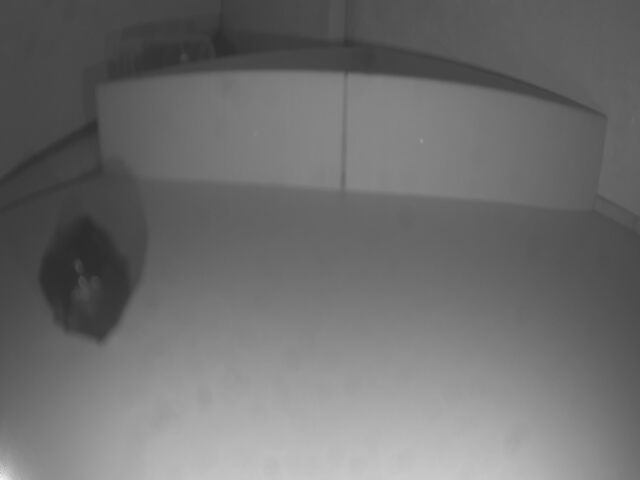Dead: (37, 223, 137, 340)
Point: (90, 64, 603, 209)
